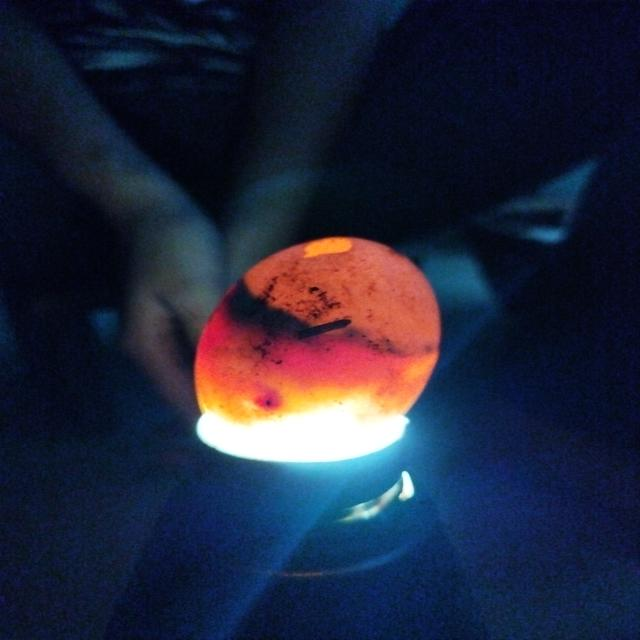Area Infectada: (220, 277, 432, 360)
